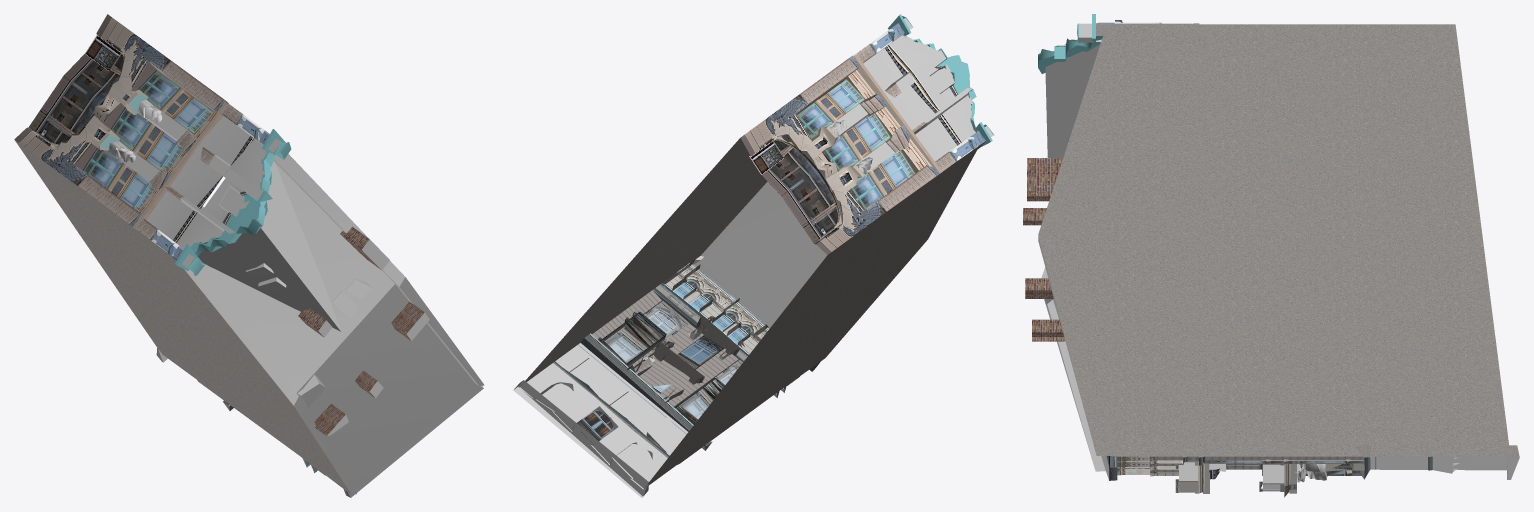
The model's file is Pikk_18-origo.obj.
The picture shows the model from 3 angles, left to right: view 1: azimuth 30°, elevation 25°; view 2: azimuth 150°, elevation 25°; view 3: azimuth 270°, elevation 25°; orthographic projection. The views are drawn at different scales.
Parts seen in each view (by area): view 1: Pikk_18; view 2: Pikk_18; view 3: Pikk_18.
Boxes of the visible parts, x1,y1,x2,y2 form: Pikk_18: (14,14,484,497); Pikk_18: (513,14,994,497); Pikk_18: (1023,14,1519,497).
Size of the model in its own units: 19.25 by 23 by 24.48.
